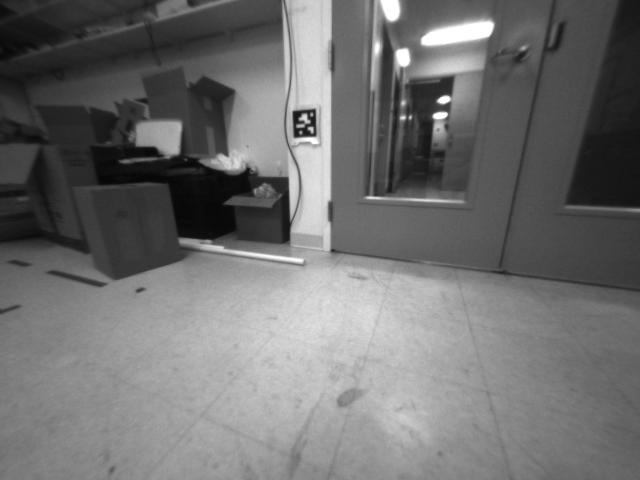door_handle: (485, 45, 530, 62)
